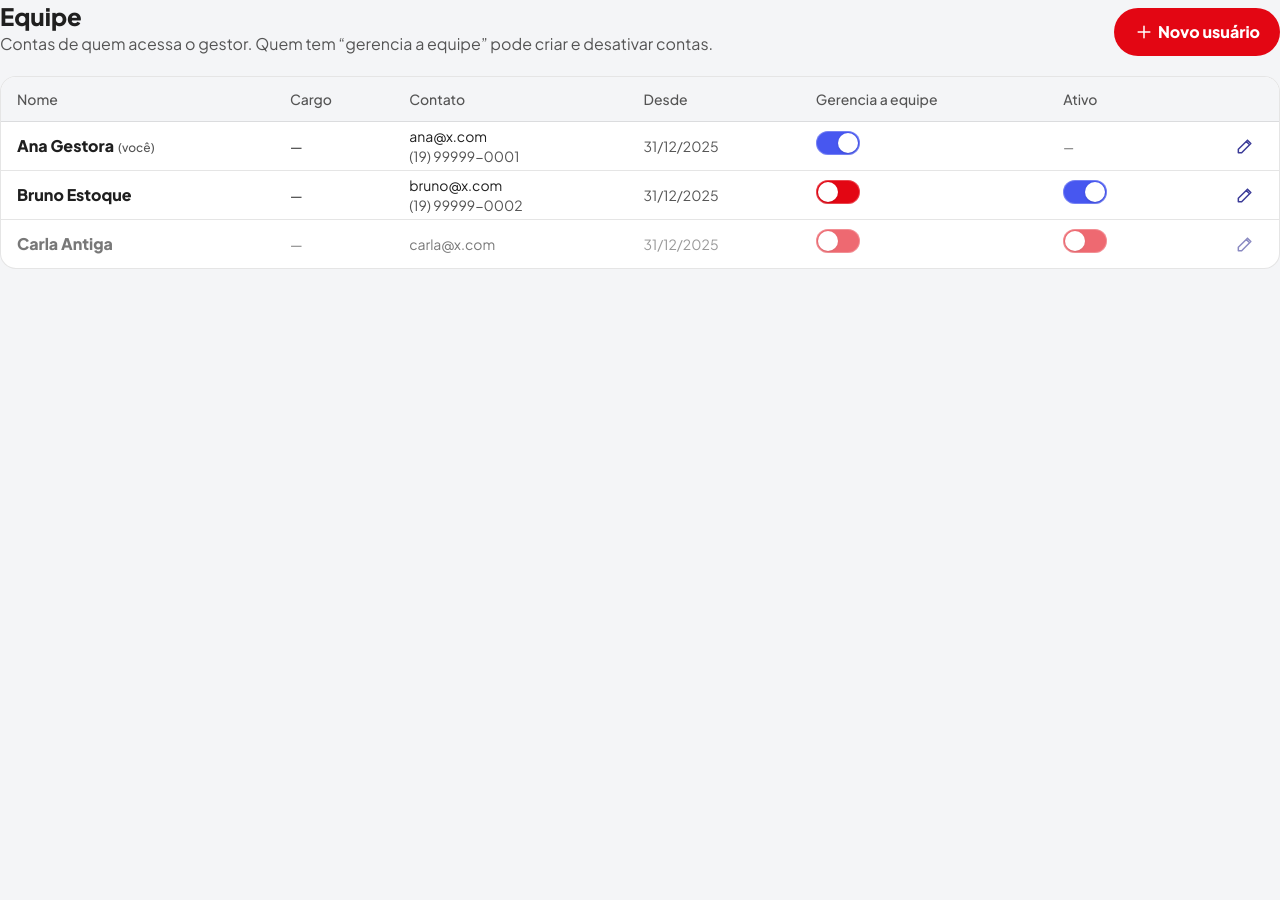
Test: Equipe: redefinição de senha por link › ESC com o link aberto fecha só o link
Click the button named "Editar" in the row of "Bruno Estoque" at (1245, 195), box [1227,177,1263,213]
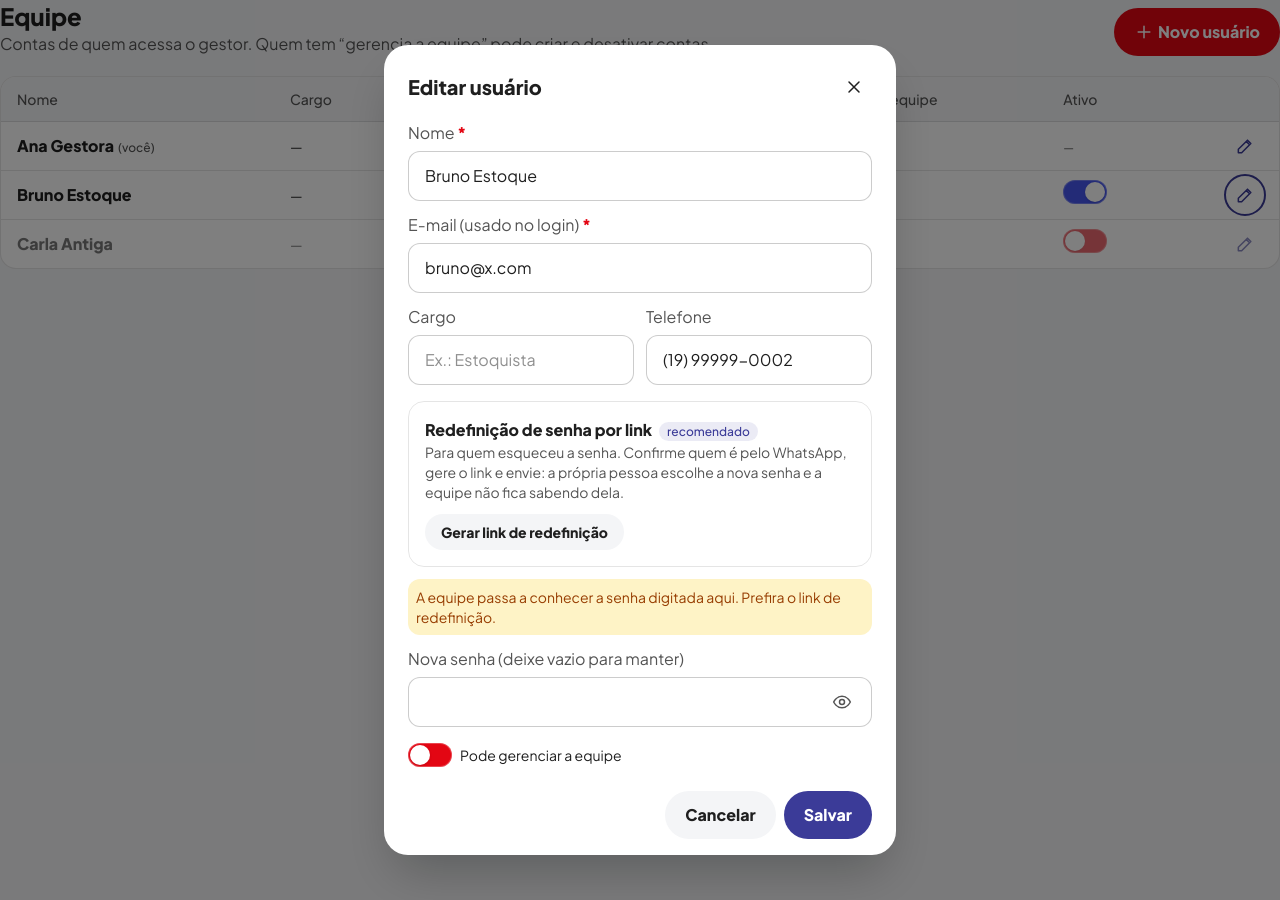
Click the button "Gerar link de redefinição" at (524, 532), box [425,514,624,550]
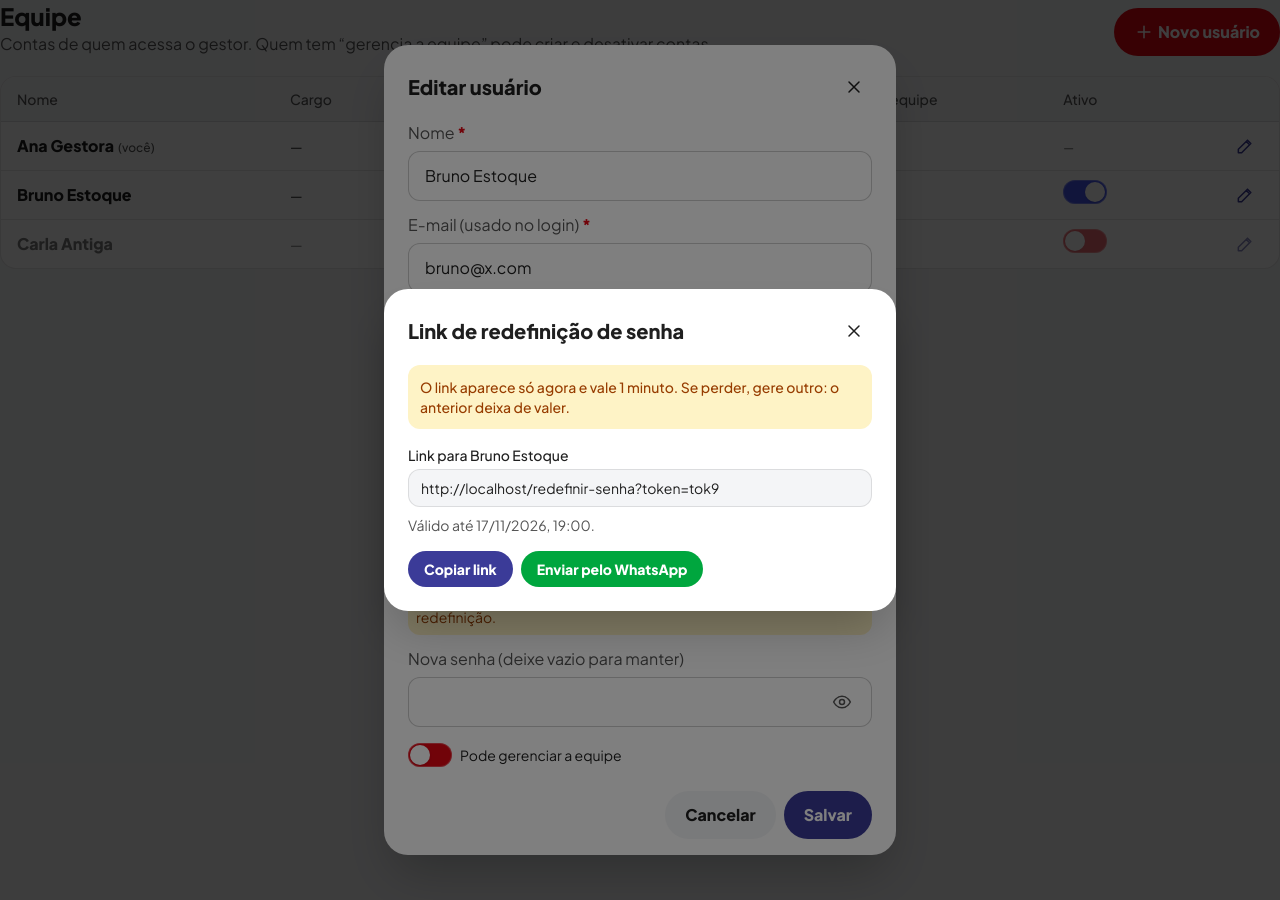
Expected: the field labelled "Link para Bruno Estoque" is shown, [408,469,872,507]
Press Escape
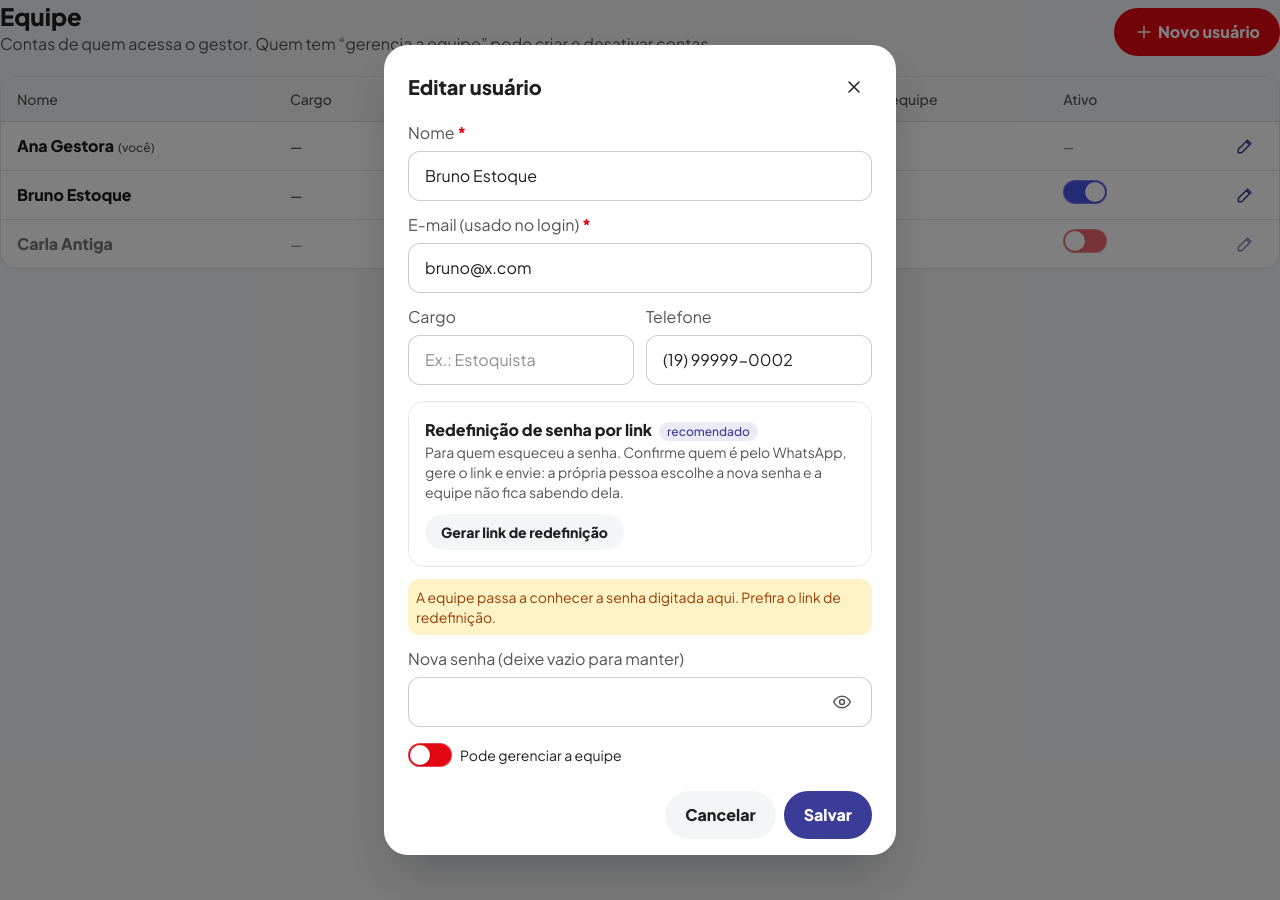
Expected: the dialog "Editar usuário" is shown, [384,45,896,855]
Expected: the heading "Link de redefinição de senha" is gone
